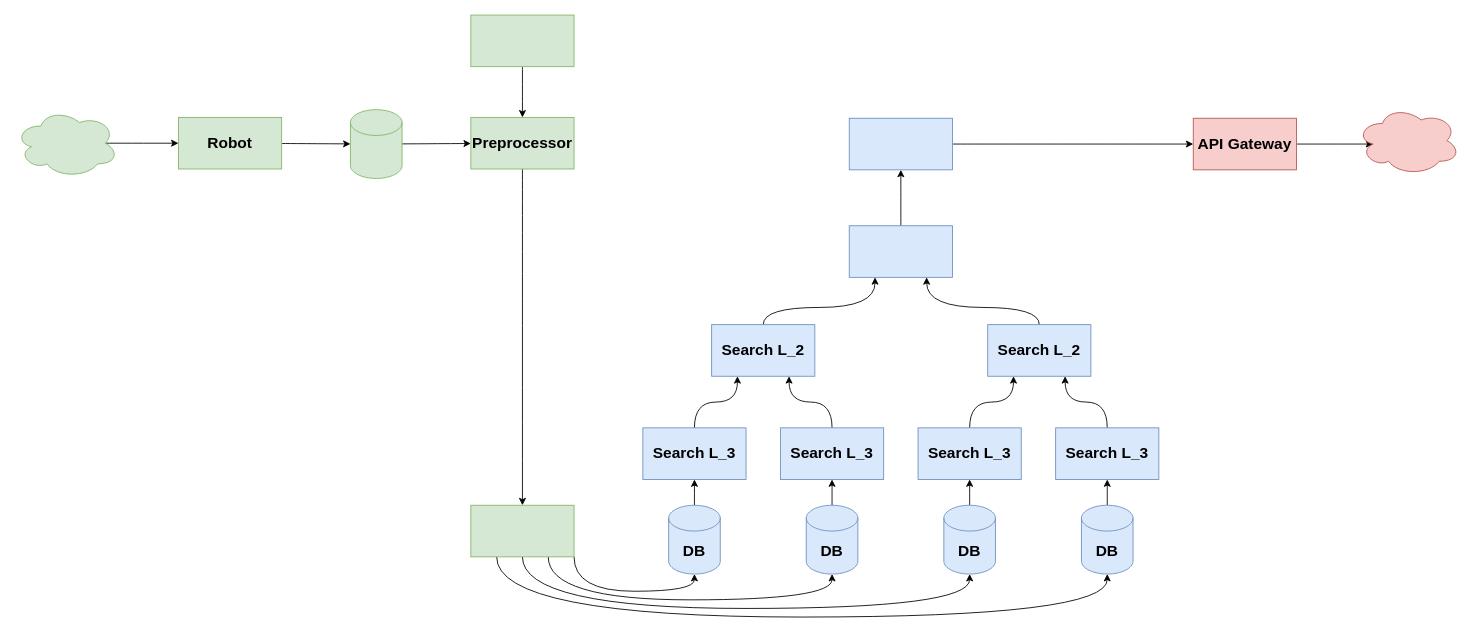
Image size: 1475x632. Some labels were removed from this diagram. The shapes that lost their labels are listed below. From the top down, each one's centre as x and y in pixels, then its label:
At pixel 522 40: "Parser".
At pixel 66 143: "web".
At pixel 376 143: "Raw DB".
At pixel 900 143: "Search".
At pixel 1408 140: "Users".
At pixel 900 251: "Search L_1".
At pixel 522 530: "DB Manager".
